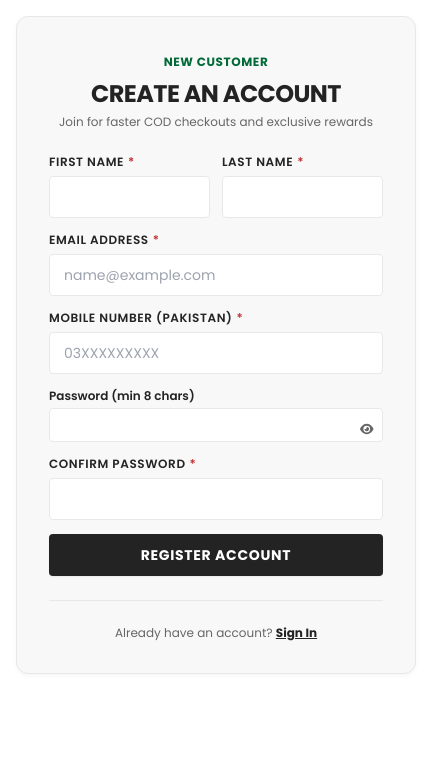
Phase 9: Comprehensive Form Validation Suite (FORM-01 to FORM-12) › FORM-01: Empty required fields show errors and focus moves to first invalid input
Click the button "Register Account" at {"x": 216, "y": 555}, box [49,534,383,576]
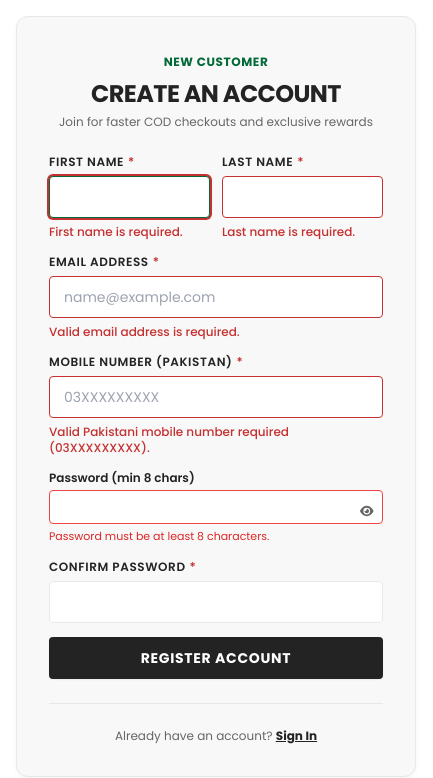
Check: the text "First name is required." is shown, box [49,223,183,240]
Check: the text "Last name is required." is shown, box [222,223,355,240]
Check: the text "Valid email address is required." is shown, box [49,323,240,340]
